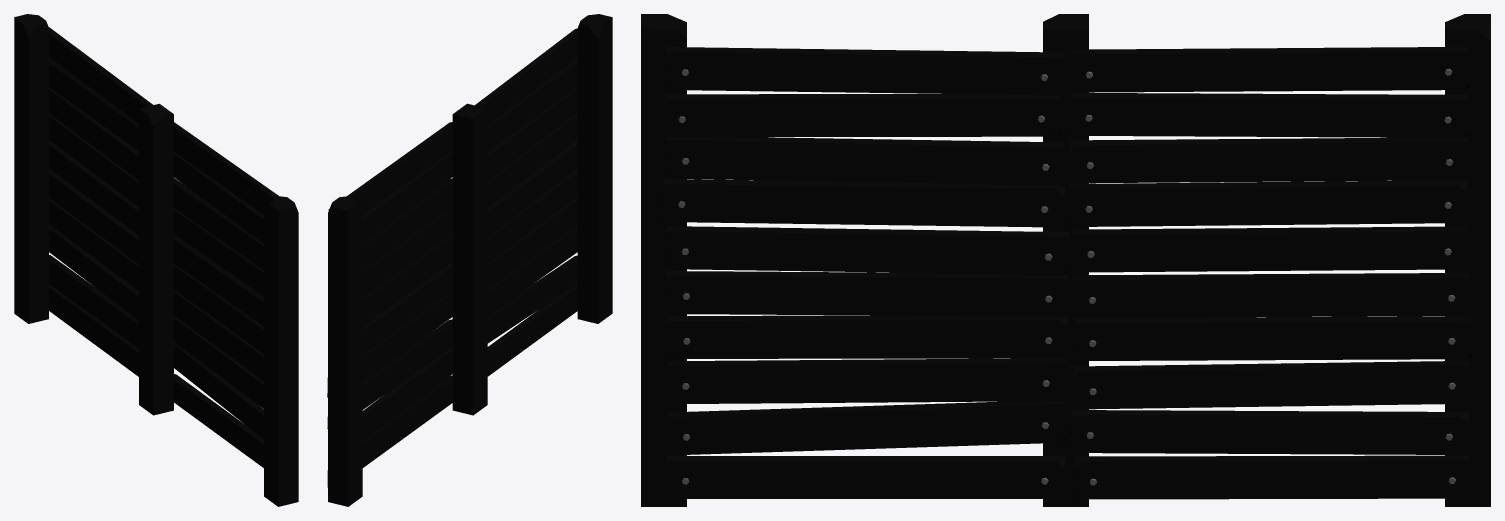
The picture shows the model from 3 angles, left to right: view 1: azimuth 30°, elevation 25°; view 2: azimuth 150°, elevation 25°; view 3: azimuth 270°, elevation 25°; orthographic projection. The views are drawn at different scales.
Parts seen in each view (by area): view 1: body0_model0_lod0_mesh0; view 2: body0_model0_lod0_mesh0; view 3: body0_model0_lod0_mesh0.
Boxes of the visible parts, x1=… form: body0_model0_lod0_mesh0: x1=14, y1=14, x2=298, y2=506; body0_model0_lod0_mesh0: x1=327, y1=14, x2=612, y2=506; body0_model0_lod0_mesh0: x1=641, y1=14, x2=1490, y2=506.
Size of the model in its own units: 12.48 by 126 by 204.
1 material, 1 textured.
